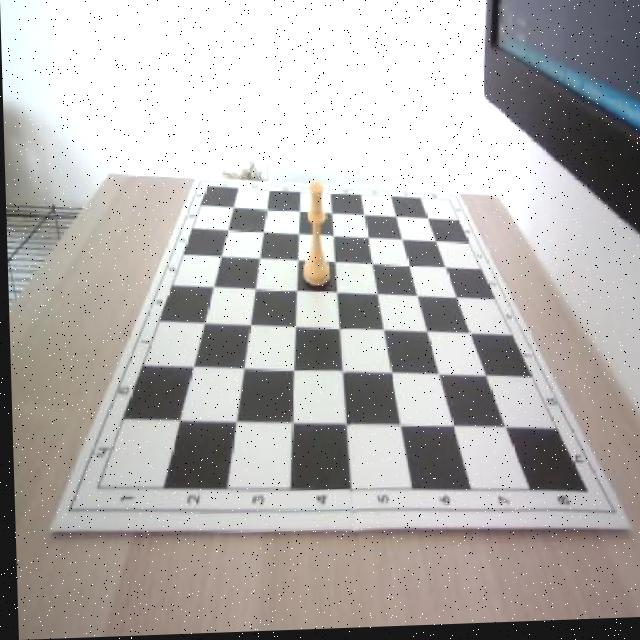white-pawn: (298, 186, 329, 290)
